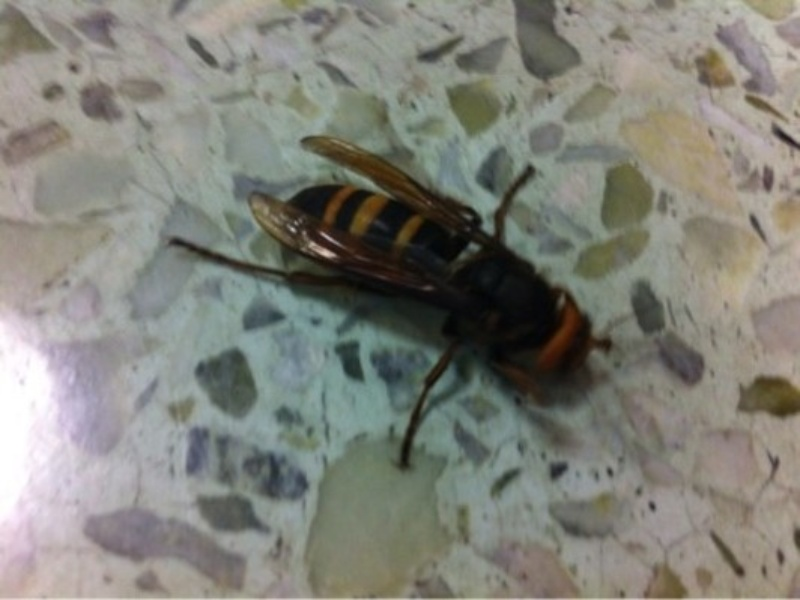asian_giant_hornet: (248, 134, 618, 392)
